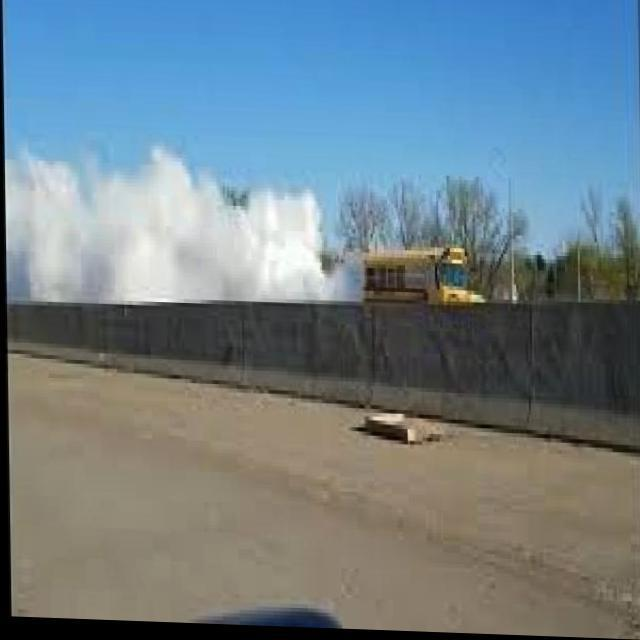Smoke: (1, 143, 370, 319)
